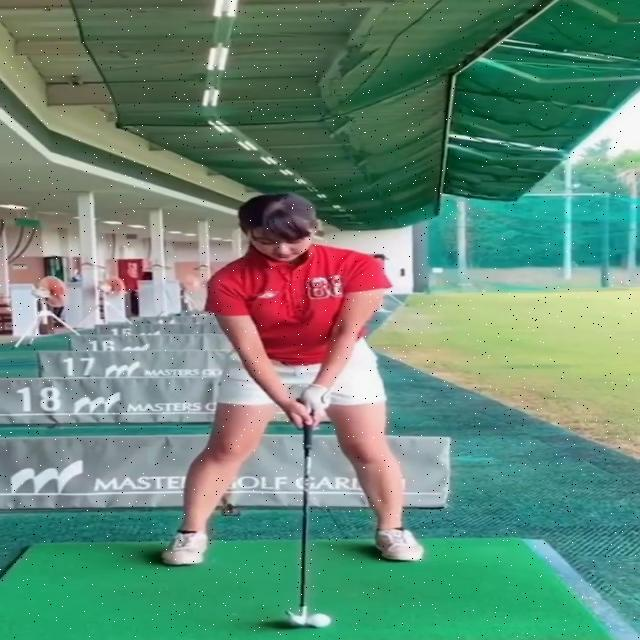ClubHandle: (283, 423, 316, 626)
ClubHead: (285, 605, 309, 626)
GolfBall: (308, 613, 331, 626)
